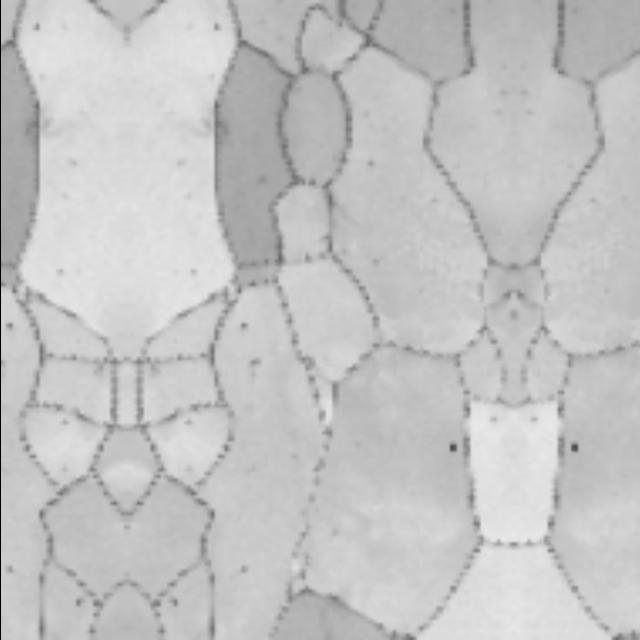good_void: (245, 358, 263, 378), (210, 16, 223, 35), (30, 16, 43, 35), (238, 561, 251, 579), (166, 596, 181, 611), (72, 596, 87, 611), (448, 438, 460, 456), (568, 438, 580, 456), (3, 561, 15, 579), (360, 159, 379, 170), (180, 416, 195, 428), (58, 416, 73, 428), (0, 358, 8, 378), (238, 320, 251, 332), (3, 320, 15, 332), (190, 266, 201, 279), (52, 266, 63, 279)
